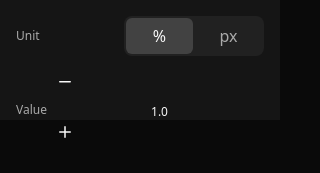
it: UnitInput Component › Increment/Decrement Buttons › should set to 0 when decrementing would go negative
Replace the text in the field with "0.5" at {"x": 160, "y": 112}, box top-left (55, 102), bottom-right (264, 122)
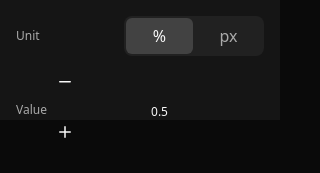
Click the 3rd button at {"x": 65, "y": 82}, box top-left (55, 72), bottom-right (75, 92)
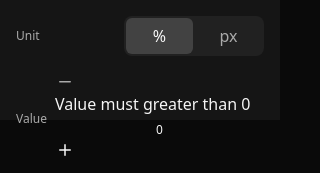
Now the field holds "0", box top-left (55, 120), bottom-right (264, 140)
